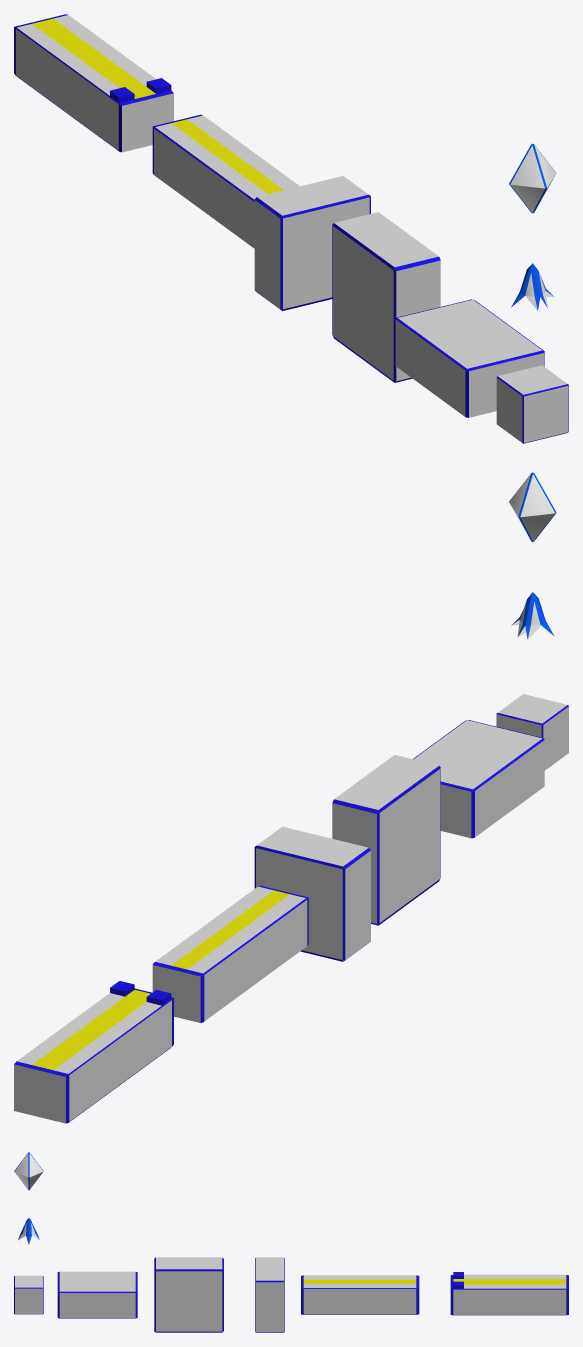
The model's file is Neon 1.fbx.
3 views of the same model, one above another, from view 1: azimuth 30°, elevation 25°; view 2: azimuth 150°, elevation 25°; view 3: azimuth 270°, elevation 25° (orthographic). The views are drawn at different scales.
Visible parts, largest first — view 1: Cube.005, Cube.002, Cube.001, Cube.003, Cube.004, Cube, Cone, Cone.001; view 2: Cube.005, Cube.002, Cube.004, Cube.003, Cube.001, Cube, Cone, Cone.001; view 3: Cube.002, Cube.005, Cube.004, Cube.001, Cube.003, Cube, Cone, Cone.001.
Part boxes in pixels (x1,y1,x2,y2): Cube.005: (14, 14, 173, 152); Cube.002: (332, 212, 440, 382); Cube.001: (395, 299, 544, 417); Cube.003: (254, 176, 370, 310); Cube.004: (152, 114, 299, 248); Cube: (496, 365, 568, 443); Cone: (509, 143, 556, 213); Cone.001: (511, 263, 554, 310); Cube.005: (14, 981, 173, 1123); Cube.002: (332, 755, 440, 925); Cube.004: (152, 885, 308, 1022); Cube.003: (254, 826, 370, 961); Cube.001: (413, 720, 544, 838); Cube: (496, 694, 568, 770); Cone: (509, 472, 556, 541); Cone.001: (511, 592, 554, 639); Cube.002: (154, 1257, 223, 1332); Cube.005: (450, 1272, 568, 1315); Cube.004: (301, 1275, 419, 1314); Cube.001: (57, 1271, 137, 1318); Cube.003: (255, 1257, 284, 1332); Cube: (14, 1275, 43, 1314); Cone: (14, 1152, 43, 1190); Cone.001: (18, 1218, 39, 1244).
Bounding box in the file's own units: 388 × 1303 × 3754.
